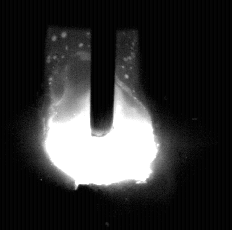arame: (91, 0, 116, 137)
poca: (44, 0, 160, 230)
